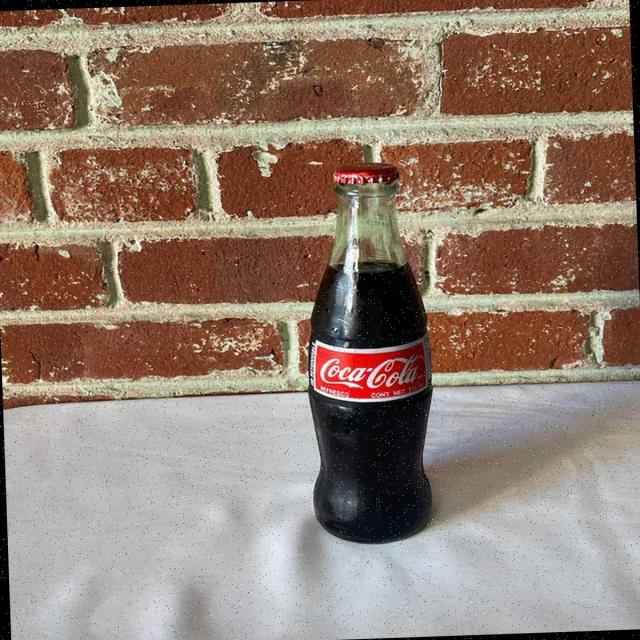coca-cola: (292, 152, 447, 550)
